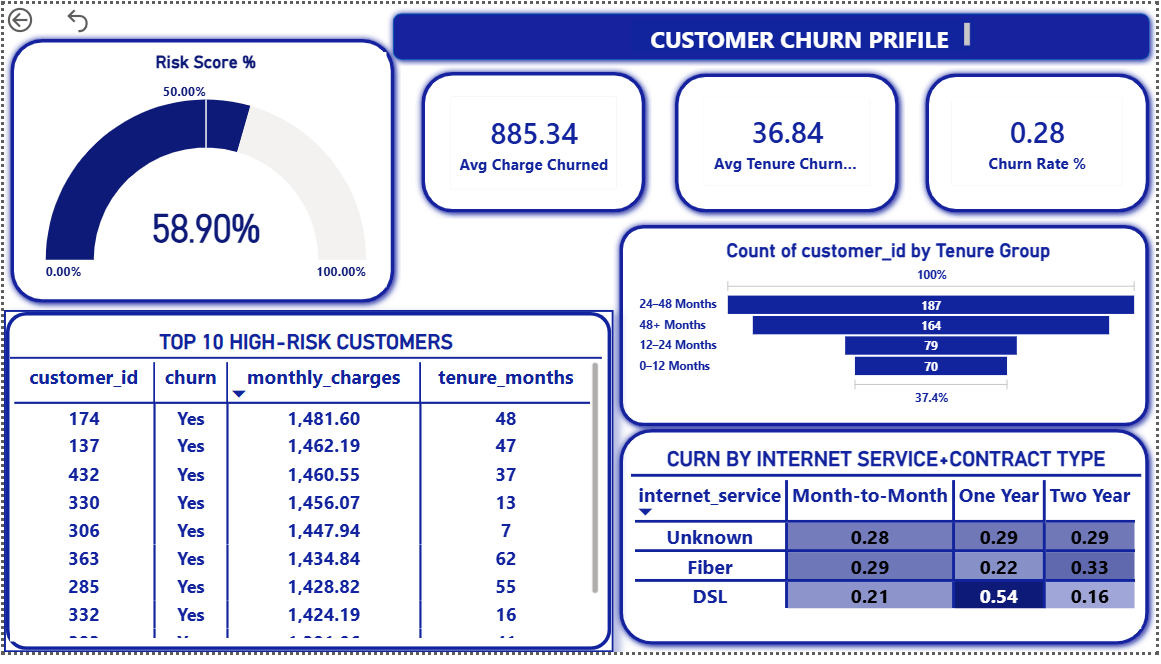

This screenshot's page, from the dashboard's own definition file:
{"tool":"powerbi","page":{"name":"Page 3","canvas":[1600,900],"ordinal":2},"visuals":[{"type":"shape","box":[846.7,297.8,753.3,297.8],"z":0},{"type":"shape","box":[846.7,582.2,753.3,317.8],"z":1000},{"type":"shape","title":"TOP 10 HIGH RISH CUSTOMERS","box":[0,424.4,846.7,475.6],"z":2000},{"type":"shape","box":[0,40,551.1,384.4],"z":3000},{"type":"shape","box":[922.2,86.7,328.9,211.1],"z":4000},{"type":"shape","box":[1271.1,86.7,328.9,211.1],"z":5000},{"type":"shape","box":[571.1,84.4,328.9,213.3],"z":6000},{"type":"actionButton","box":[0,0,60,44.4],"z":7000},{"type":"gauge","fields":{"Y":["Cust_Churn_Dataset.Risk Score %"]},"box":[28.9,66.7,502.2,326.7],"z":8000},{"type":"tableEx","title":"TOP 10 HIGH-RISK CUSTOMERS","fields":{"Values":["Cust_Churn_Dataset.customer_id","Cust_Churn_Dataset.churn","Cust_Churn_Dataset.monthly_charges","Cust_Churn_Dataset.tenure_months"]},"box":[8.9,451.1,822.2,433.3],"z":9000},{"type":"cardVisual","fields":{"Data":["Cust_Churn_Dataset.Avg Charge Churned"]},"box":[602.2,111.1,266.7,164.4],"z":10000},{"type":"cardVisual","fields":{"Data":["Cust_Churn_Dataset.Avg Tenure Churned"]},"box":[953.3,113.3,266.7,157.8],"z":11000},{"type":"cardVisual","fields":{"Data":["Cust_Churn_Dataset.Churn Rate %"]},"box":[1297.8,113.3,273.3,157.8],"z":12000},{"type":"pivotTable","title":"CURN BY INTERNET SERVICE+CONTRACT TYPE","fields":{"Rows":["Cust_Churn_Dataset.internet_service"],"Columns":["Cust_Churn_Dataset.contract_type"],"Values":["Cust_Churn_Dataset.Churn Rate %"]},"box":[871.1,615.6,708.9,253.3],"z":13000},{"type":"shape","title":"CUSTOMER CHURN PROFILE","box":[531.1,4.4,1068.9,82.2],"z":14000},{"type":"textbox","box":[871.1,20,475.6,46.7],"z":15000},{"type":"funnel","fields":{"Category":["Cust_Churn_Dataset.Tenure Group"],"Y":["Count(Cust_Churn_Dataset.customer_id)"]},"box":[877.8,326.7,702.2,235.6],"z":16000},{"type":"actionButton","box":[82.2,2.2,53.3,42.2],"z":17000}]}

Visuals, with their boxes in screenshot pixels (x1, y1, x2, y2):
shape: 606, 222, 1145, 435
shape: 606, 426, 1145, 653
"TOP 10 HIGH RISH CUSTOMERS" shape: 0, 313, 606, 653
shape: 0, 38, 394, 313
shape: 660, 71, 895, 222
shape: 910, 71, 1145, 222
shape: 409, 69, 644, 222
actionButton: 0, 9, 43, 41
gauge - Cust_Churn_Dataset.Risk Score %: 21, 57, 380, 291
"TOP 10 HIGH-RISK CUSTOMERS" tableEx: 6, 332, 595, 642
cardVisual - Cust_Churn_Dataset.Avg Charge Churned: 431, 89, 622, 206
cardVisual - Cust_Churn_Dataset.Avg Tenure Churned: 682, 90, 873, 203
cardVisual - Cust_Churn_Dataset.Churn Rate %: 929, 90, 1124, 203
"CURN BY INTERNET SERVICE+CONTRACT TYPE" pivotTable: 623, 450, 1131, 631
"CUSTOMER CHURN PROFILE" shape: 380, 12, 1145, 71
textbox: 623, 23, 964, 57
funnel - Cust_Churn_Dataset.Tenure Group x Count(Cust_Churn_Dataset.customer_id): 628, 243, 1131, 411
actionButton: 59, 11, 97, 41
